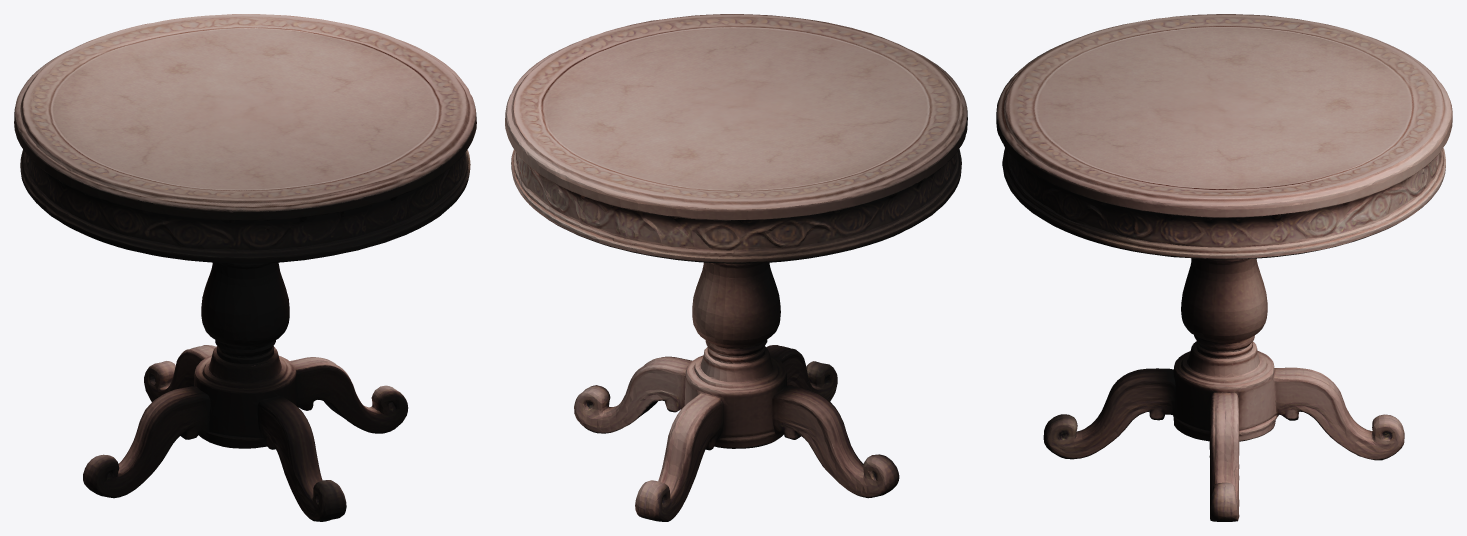
Rendered from table_ornate.glb.
3 views of the same model, side by side, from view 1: azimuth 30°, elevation 25°; view 2: azimuth 150°, elevation 25°; view 3: azimuth 270°, elevation 25° (orthographic).
Visible parts, largest first — view 1: world; view 2: world; view 3: world.
Boxes of the visible parts, left/top/right/bottom form: world: left=14, top=14, right=476, bottom=521; world: left=505, top=14, right=967, bottom=521; world: left=996, top=14, right=1452, bottom=521.
Bounding box in the file's own units: 1 × 0.8424 × 1.
Materials: 1 (1 with a texture image).
